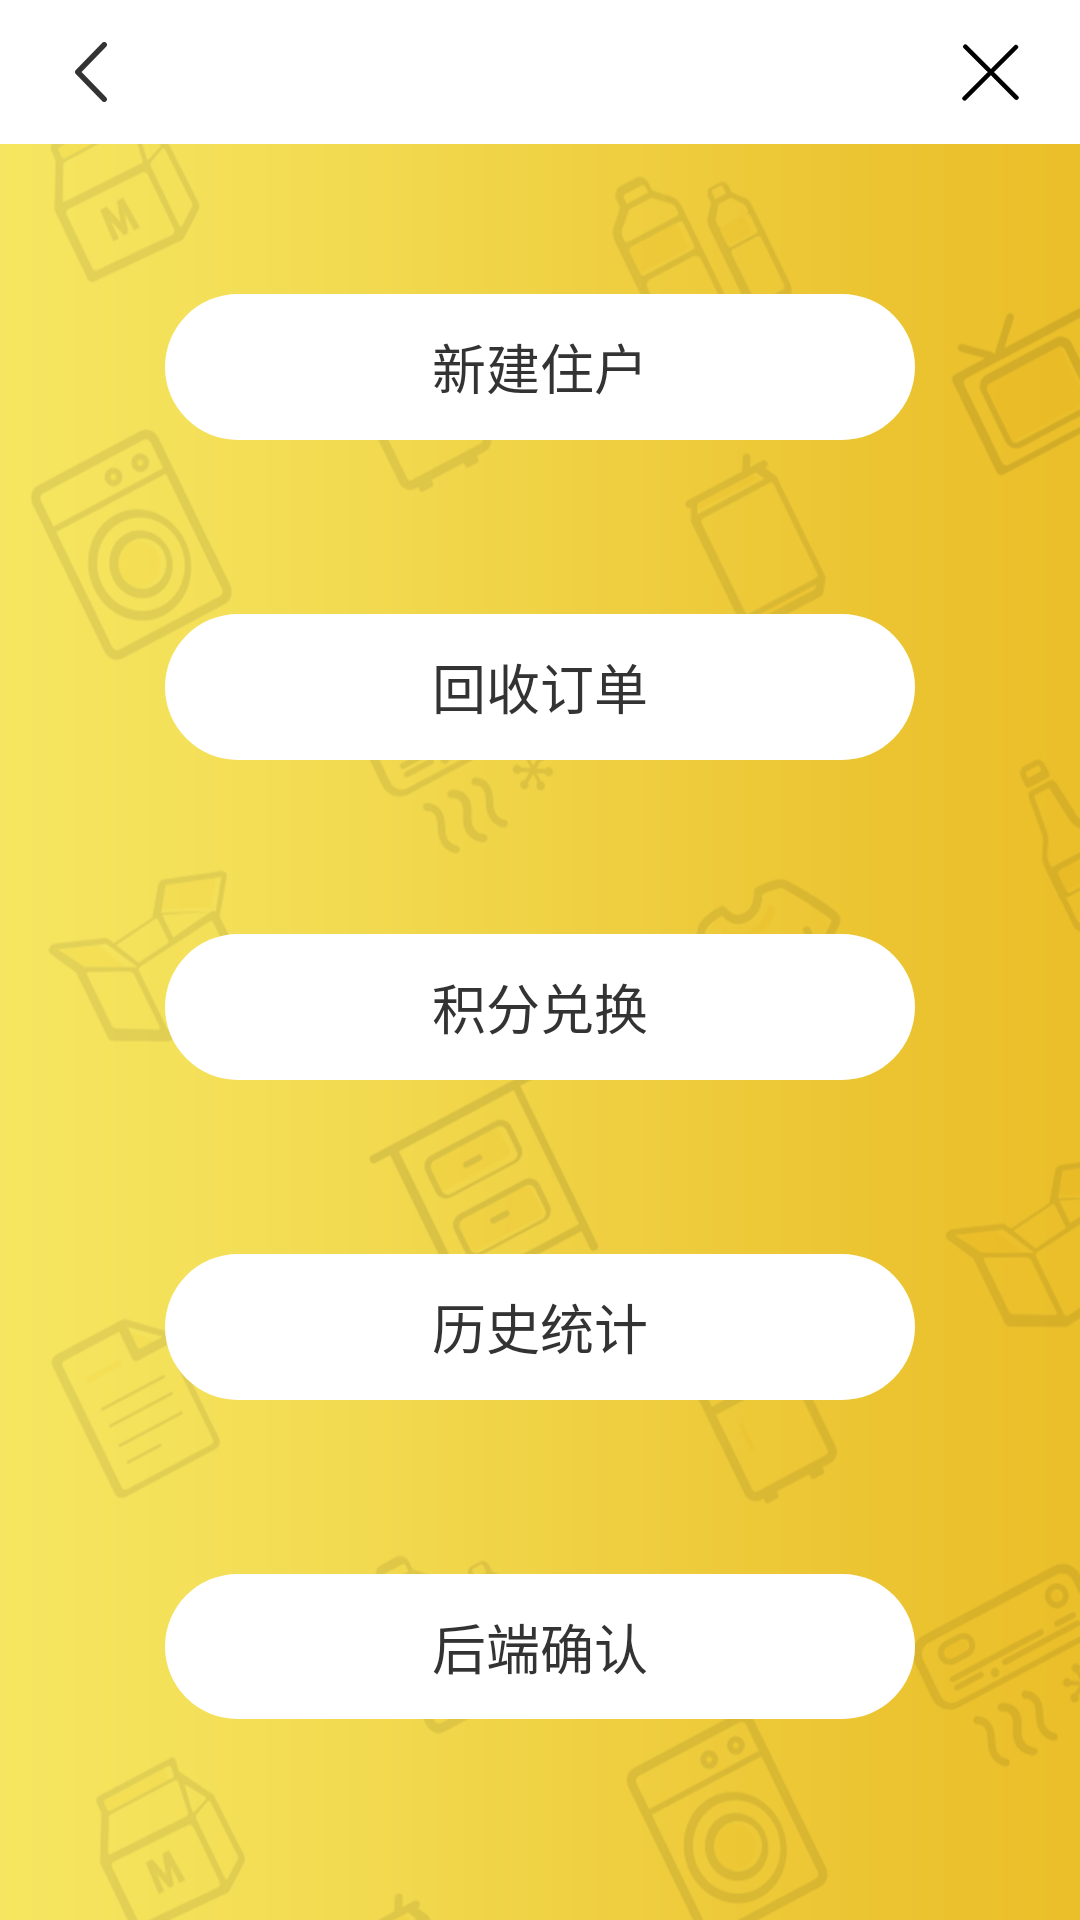

Point at icon controls on the screen. Image size 1080x1920, points as (x,y).
上一步: (91,72)
